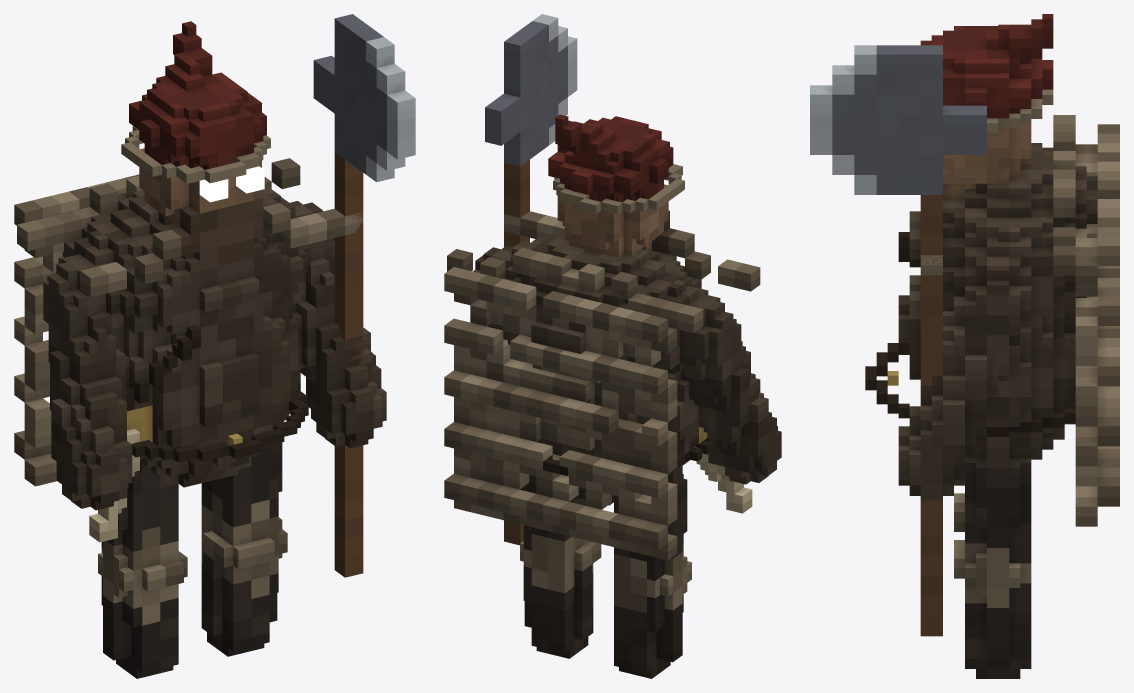
File: u_chevrier.glb
3 views of the same model, side by side, from view 1: azimuth 30°, elevation 25°; view 2: azimuth 150°, elevation 25°; view 3: azimuth 270°, elevation 25° (orthographic). The views are drawn at different scales.
Visible parts, largest first — view 1: chevrier_body, chevrier_weapon, chevrier_glow; view 2: chevrier_body, chevrier_weapon; view 3: chevrier_body, chevrier_weapon.
Part boxes in pixels (x1,y1,x2,y2): chevrier_body: (14,21,386,678); chevrier_weapon: (313,14,415,577); chevrier_glow: (199,166,264,202); chevrier_body: (444,114,781,678); chevrier_weapon: (485,14,577,545); chevrier_body: (865,14,1119,678); chevrier_weapon: (810,45,986,636).
Size of the model in its own units: 0.85 by 1.65 by 0.7.
